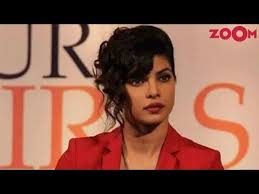indian_female: (100, 25, 193, 143)
